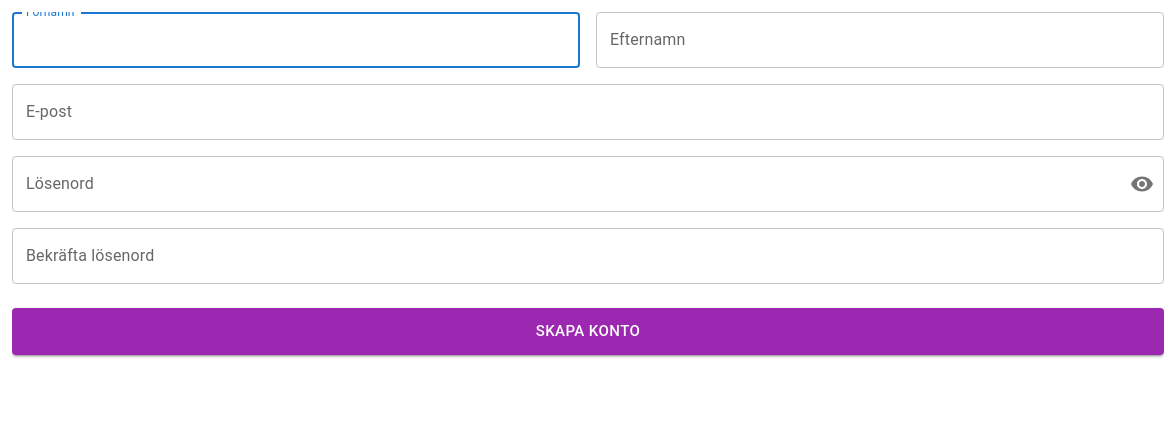
Test case: RegisterForm › should show validation error for password without lowercase
Type "PASSWORD123!" into the password field labelled "Lösenord" at (563, 184), box [12, 156, 1114, 212]
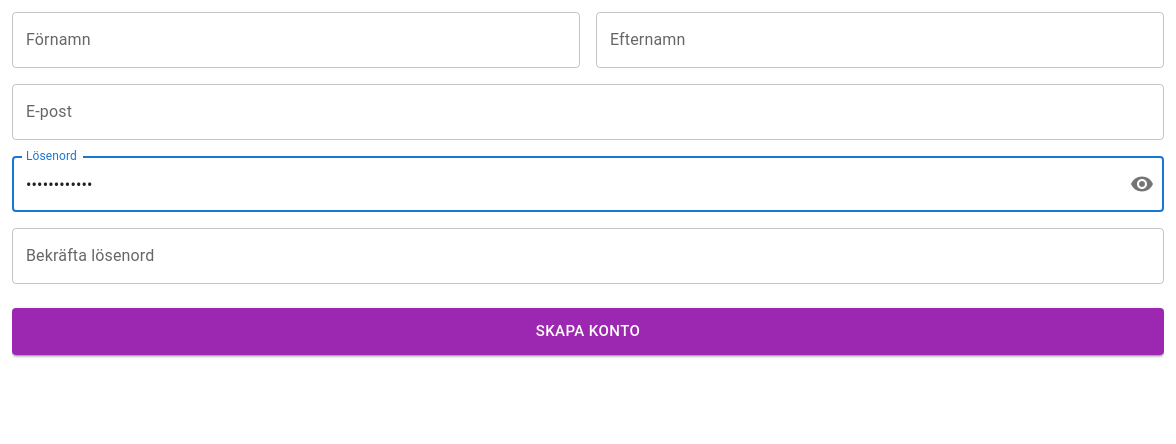
Click the button "Skapa konto" at (588, 332), box [12, 308, 1164, 355]
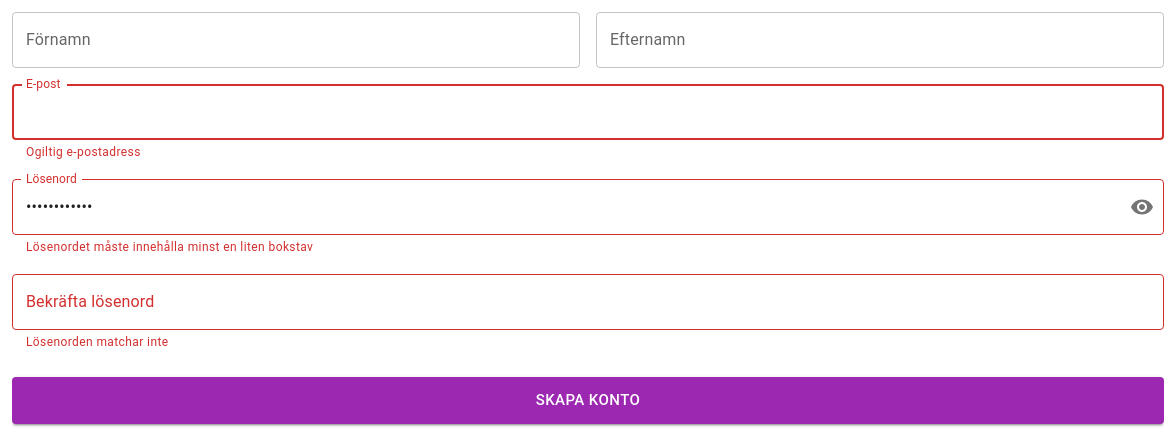
Check: the text "Lösenordet måste innehålla minst en liten bokstav" is shown, box [26, 240, 313, 254]
